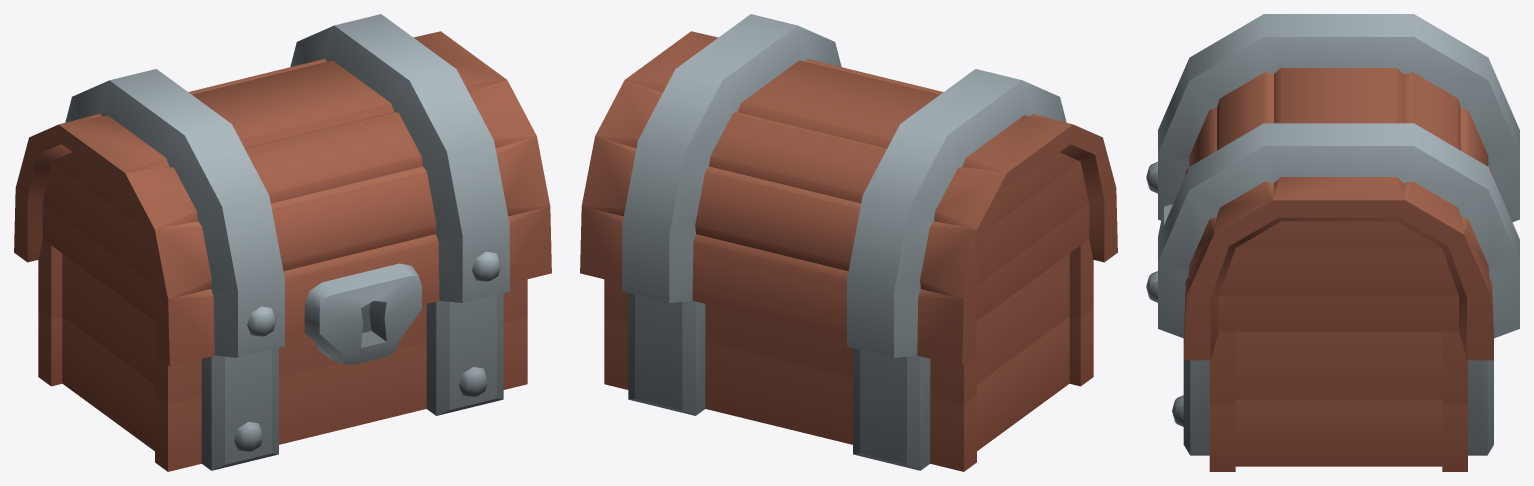
File: dungeon-chest-gold.glb
The picture shows the model from 3 angles, left to right: view 1: azimuth 30°, elevation 25°; view 2: azimuth 150°, elevation 25°; view 3: azimuth 270°, elevation 25°; orthographic projection.
Visible parts, largest first — view 1: chest_gold_lid, Cube.14744; view 2: chest_gold_lid, Cube.14744; view 3: chest_gold_lid, Cube.14744.
Part boxes in pixels (x1,y1,x2,y2): chest_gold_lid: (14, 14, 551, 366); Cube.14744: (38, 239, 527, 471); chest_gold_lid: (580, 14, 1117, 366); Cube.14744: (604, 239, 1093, 471); chest_gold_lid: (1146, 14, 1519, 360); Cube.14744: (1172, 331, 1493, 471).
Bounding box in the file's own units: 1.28 × 0.9751 × 1.08.
1 material, 1 textured.
